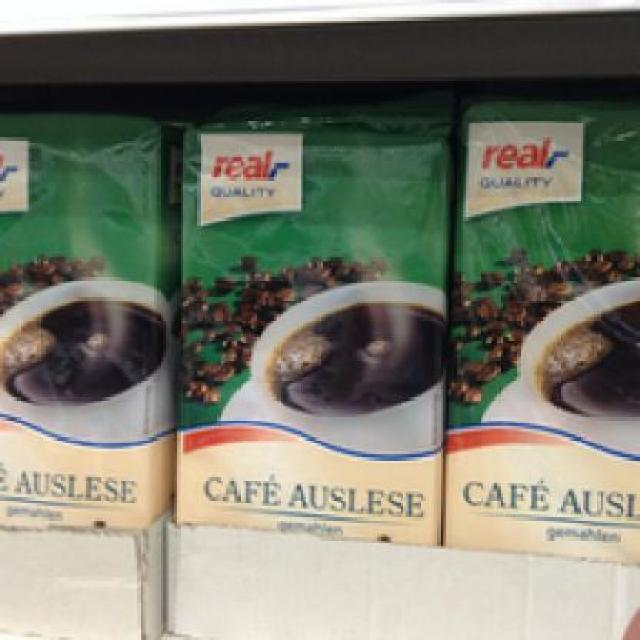Coffee: (168, 120, 446, 540), (440, 94, 634, 563), (0, 106, 166, 526)
